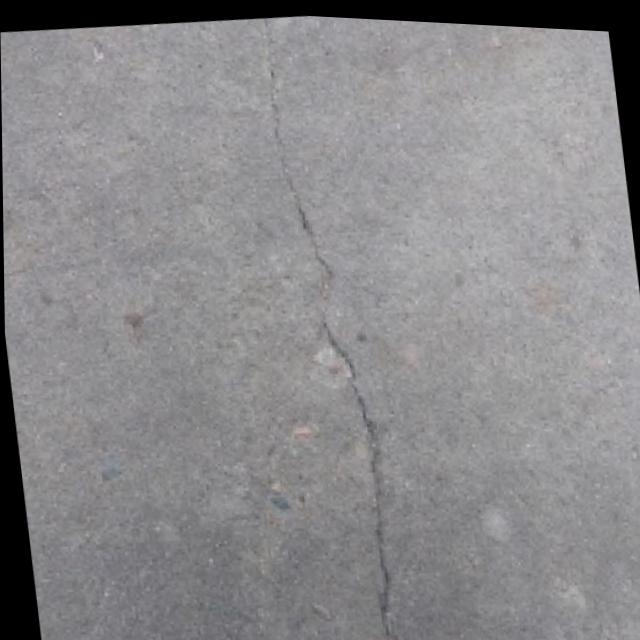Crack: (250, 16, 430, 640)
